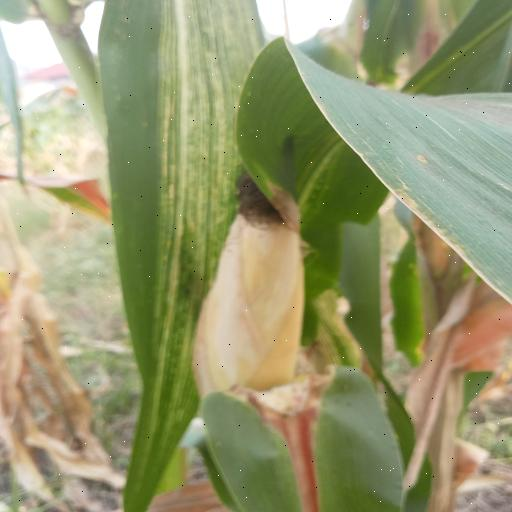Corn_Streak: (97, 0, 286, 512)
